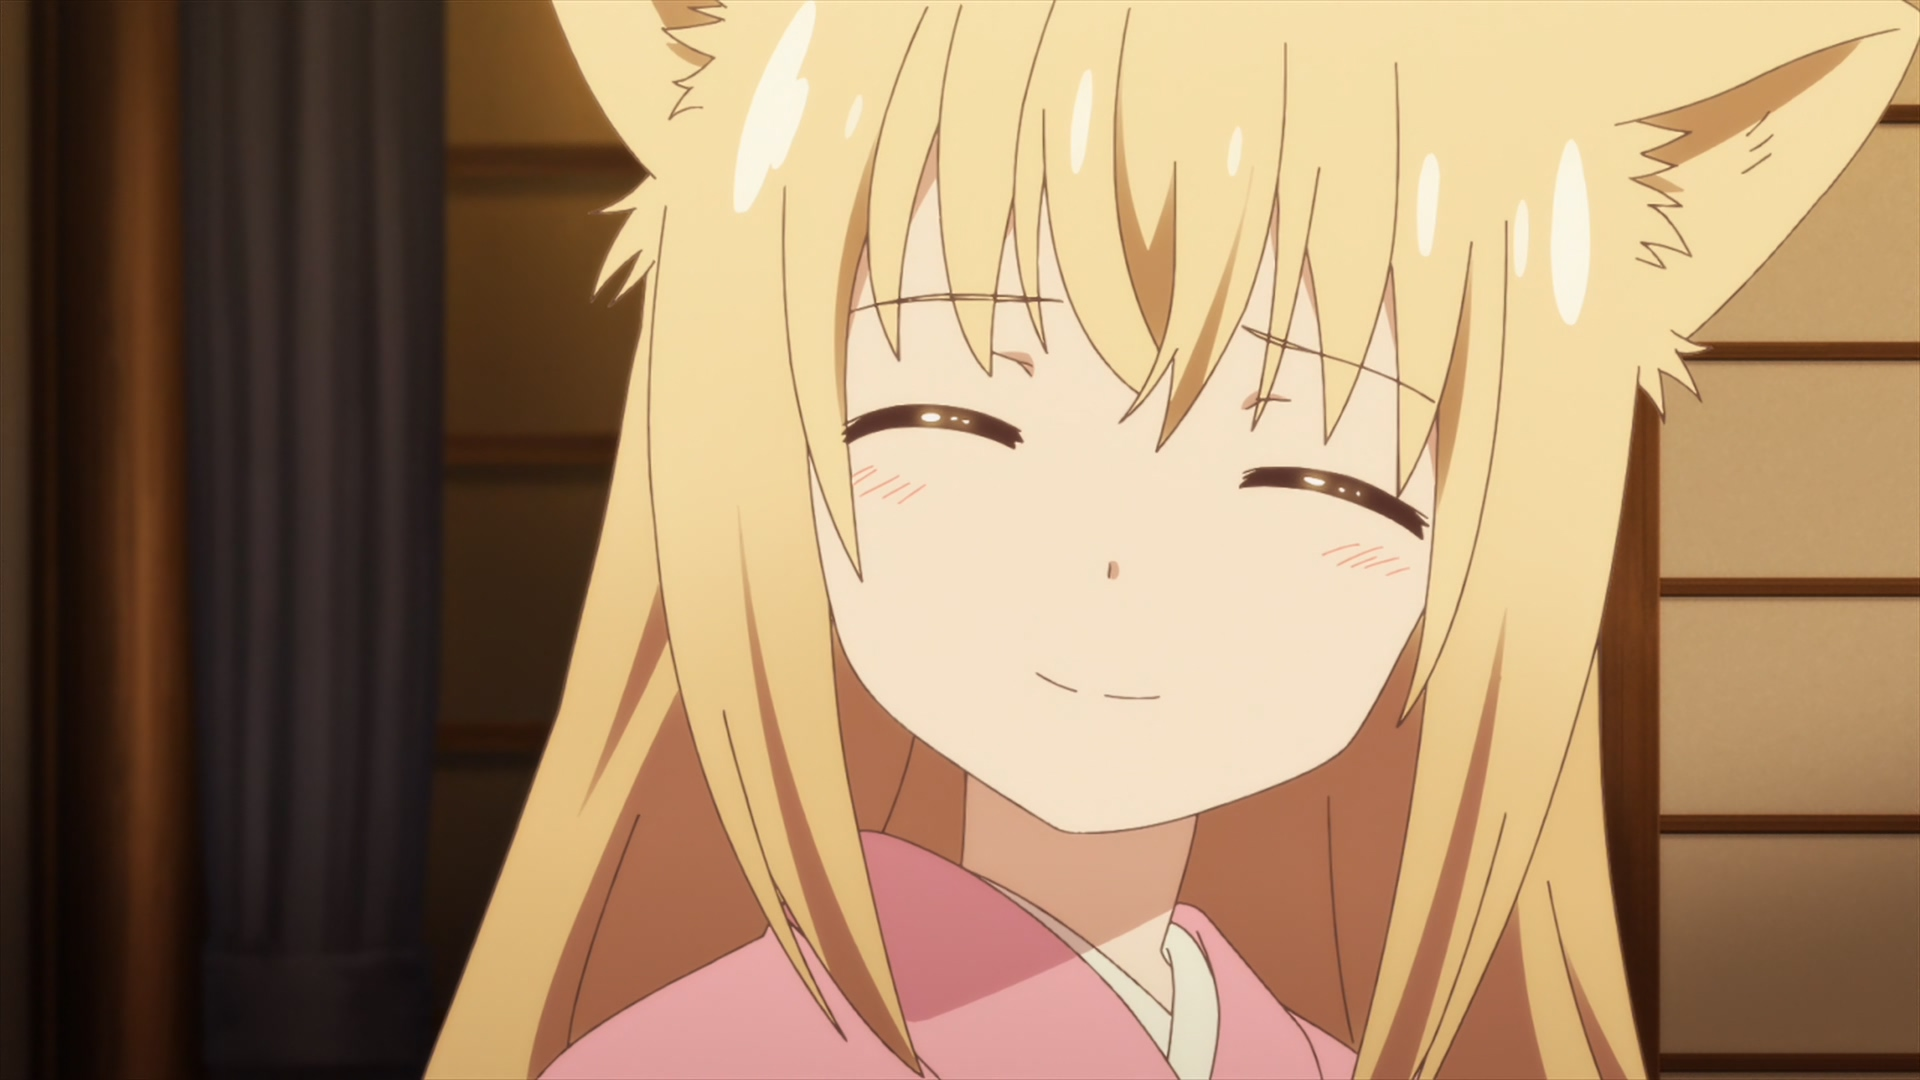柚: (422, 1, 1920, 1080)
